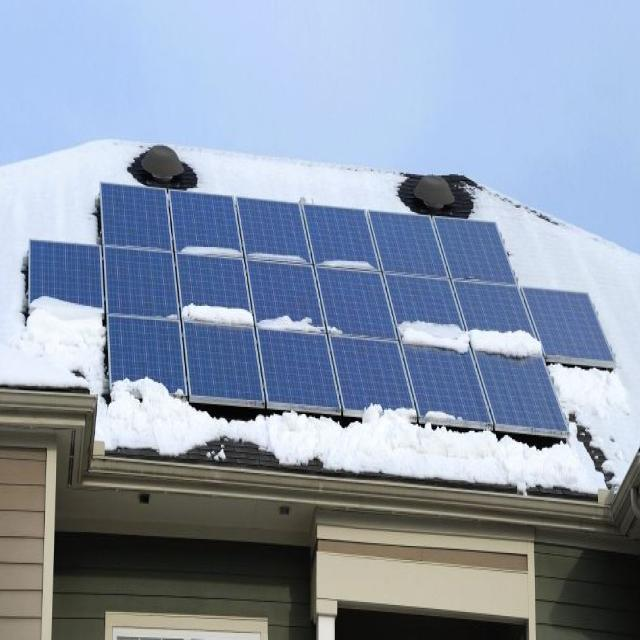snow covered: (493, 221, 635, 443), (1, 143, 117, 396)
